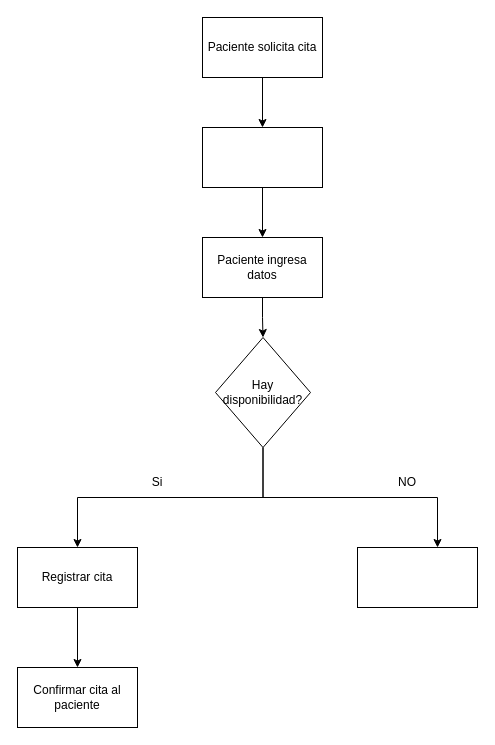
The diagram is 495 pixels wide and 745 high, and some of its shapes have lost their labels. The box of each missing label's shape, as (x1, y1, x2, y2) in pixels:
Mostrar mensaje de no disponibilidad de citas: (356, 546, 478, 608)
Sistema muestra el formulario: (202, 126, 322, 188)
